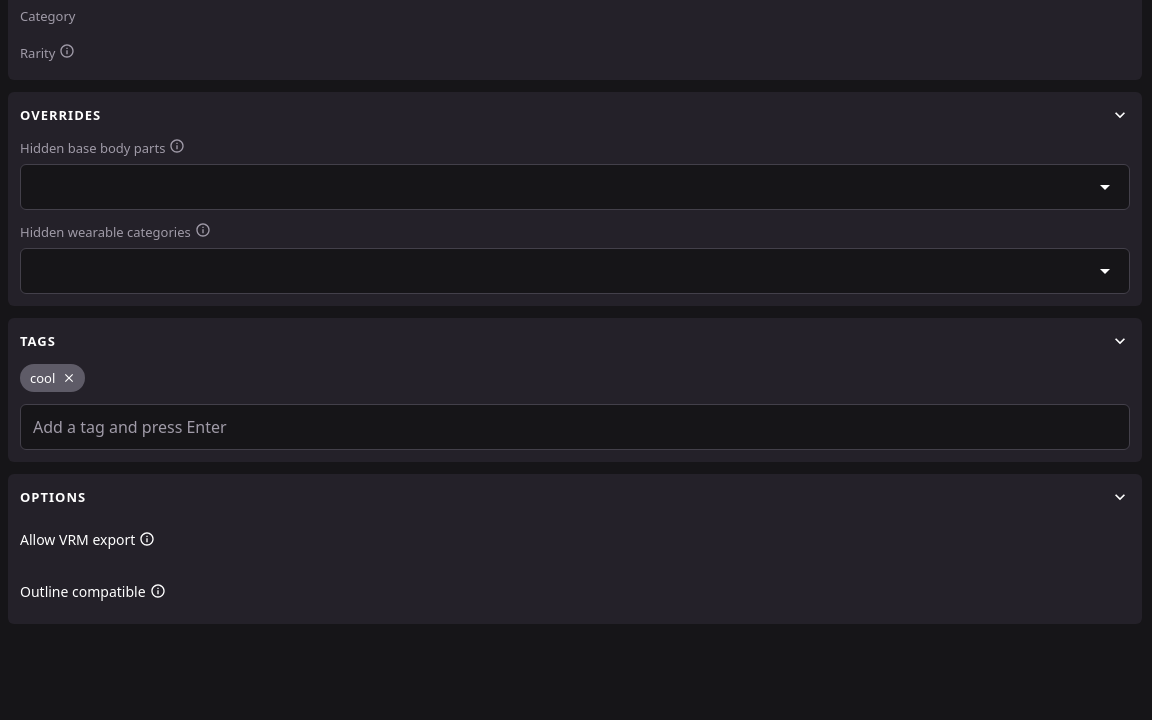
Scenario: PropertiesPanel › adds and removes tags
The image size is (1152, 720).
(page scrolled)
Step 1. Type "pirate" into the field with test id "tags-input-field" → (575, 427), box [20, 404, 1130, 450]
Then press Enter
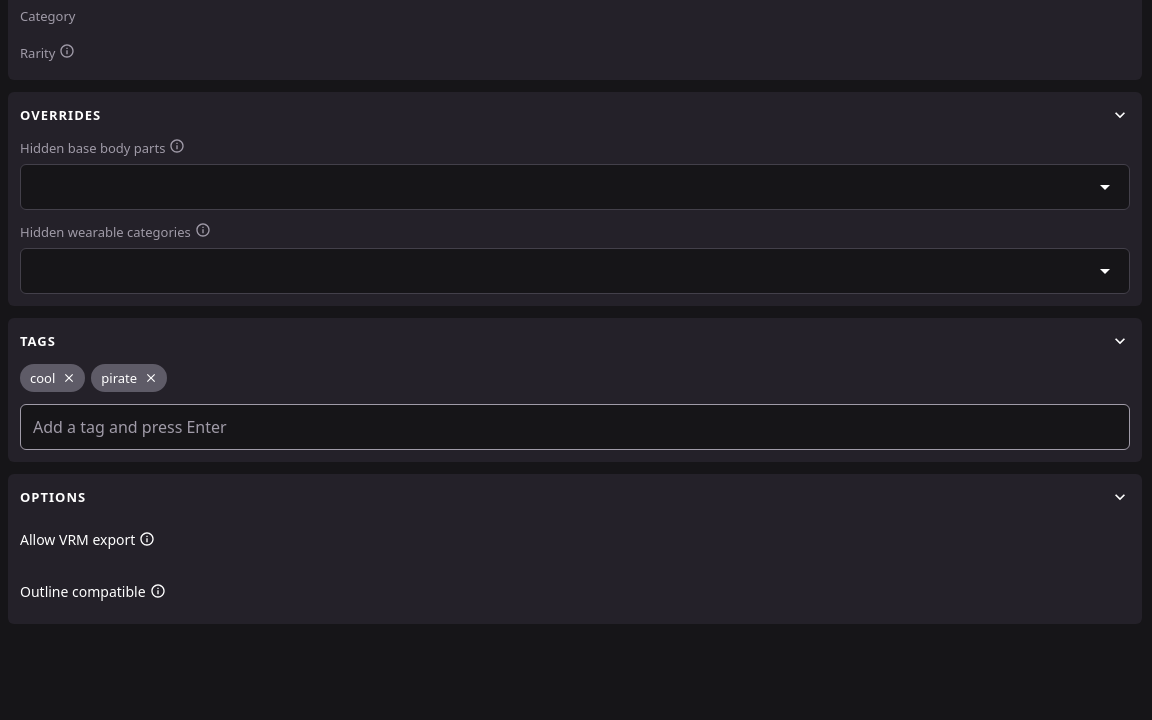
Expected: the elements with test id "tags-input-tag" read "cool", "pirate", in this order, [20, 364, 85, 392]; [91, 364, 167, 392]
Step 2. Click the button with test id "tags-input-remove-cool" → (69, 378), box [57, 366, 81, 390]
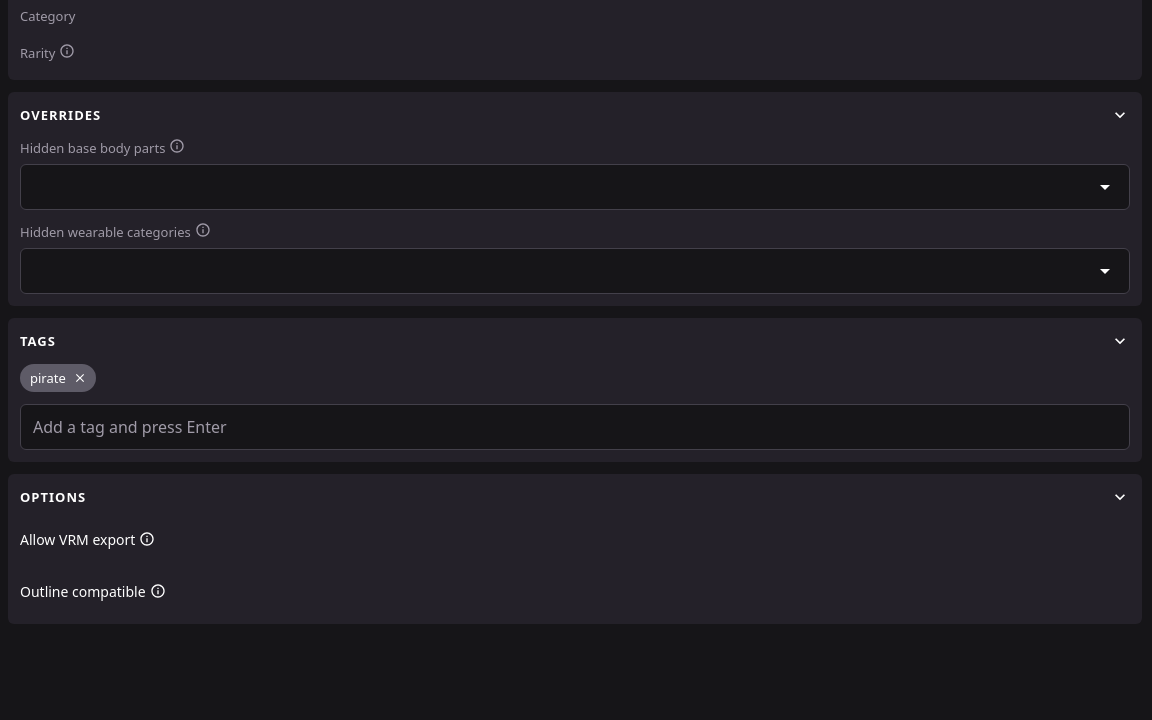
Expected: the number of elements with test id "tags-input-tag" is 1, [20, 364, 96, 392]
